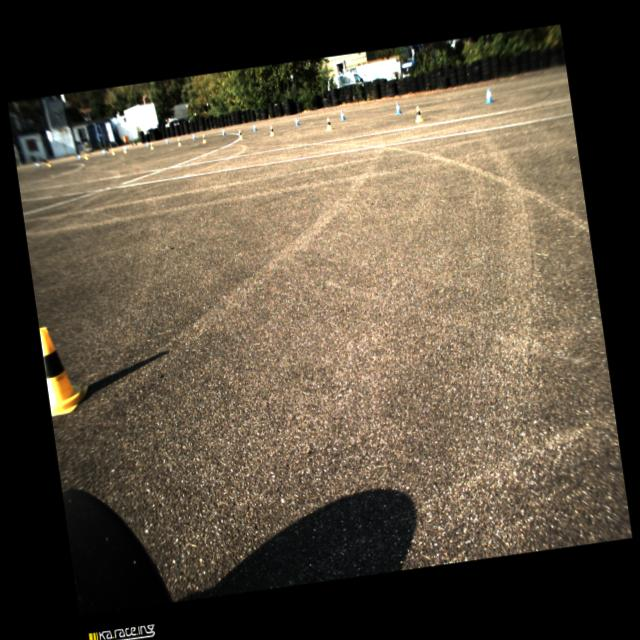blue_cone: (484, 88, 494, 104), (394, 102, 402, 115), (339, 110, 346, 120), (294, 117, 300, 126), (252, 123, 257, 131), (222, 128, 226, 136), (192, 133, 196, 140)
yellow_cone: (40, 322, 92, 416), (413, 105, 424, 124), (324, 117, 332, 131), (268, 125, 274, 137), (238, 130, 244, 140), (201, 134, 207, 144), (178, 139, 182, 147)
